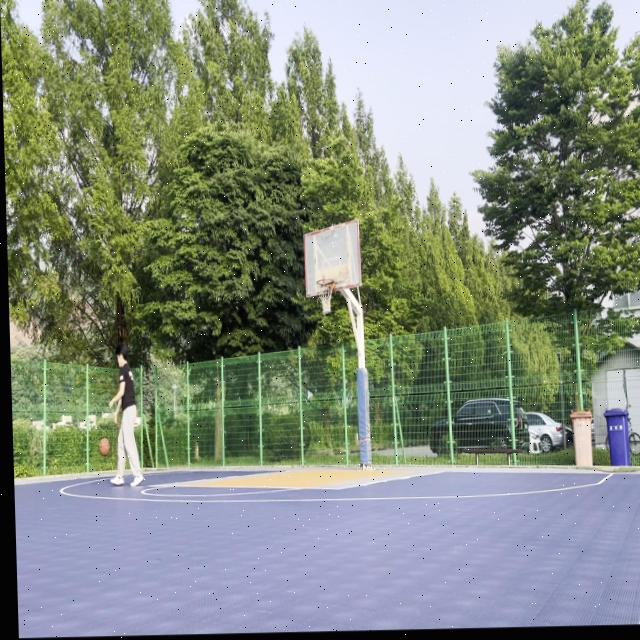basketball: (98, 436, 111, 457)
hoop: (316, 278, 335, 315)
